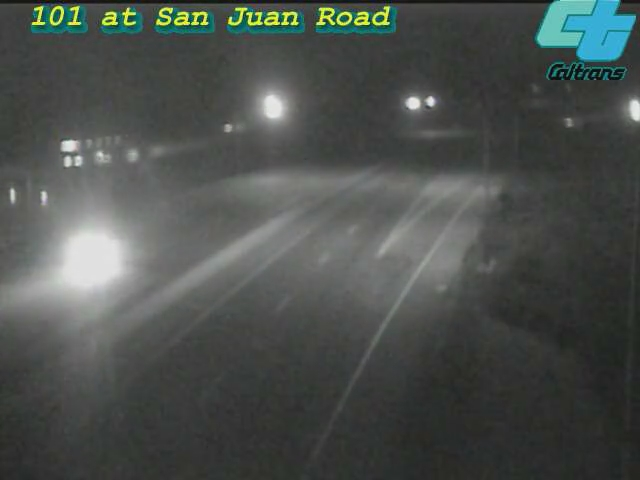vehicle: (44, 216, 124, 296), (608, 86, 640, 136)
